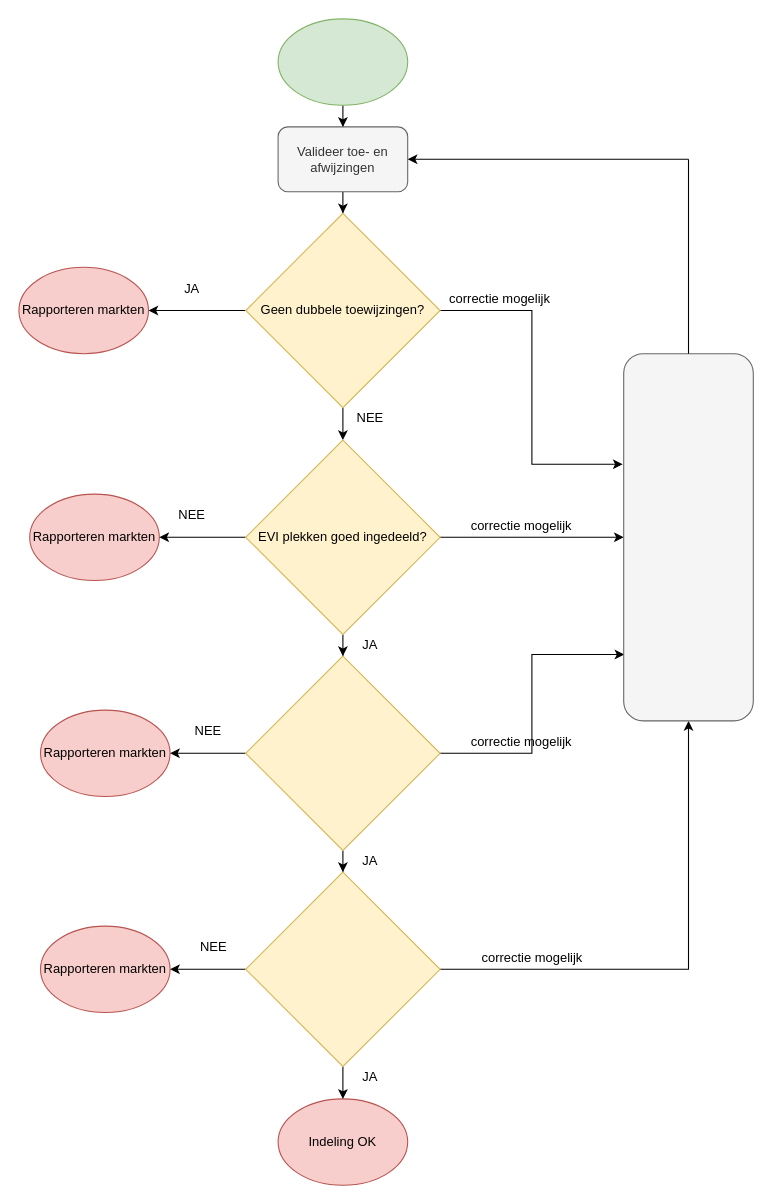
The diagram is 772 pixels wide and 1204 high, and some of its shapes have lost their labels. The box of each missing label's shape, as (x1, y1, x2, y2) in pixels:
Branches staan goed?: (245, 655, 440, 850)
Correctie indeling: (623, 353, 753, 721)
Uitbreidingen goed?: (245, 871, 440, 1066)
Validatie indeling: (277, 18, 408, 105)
